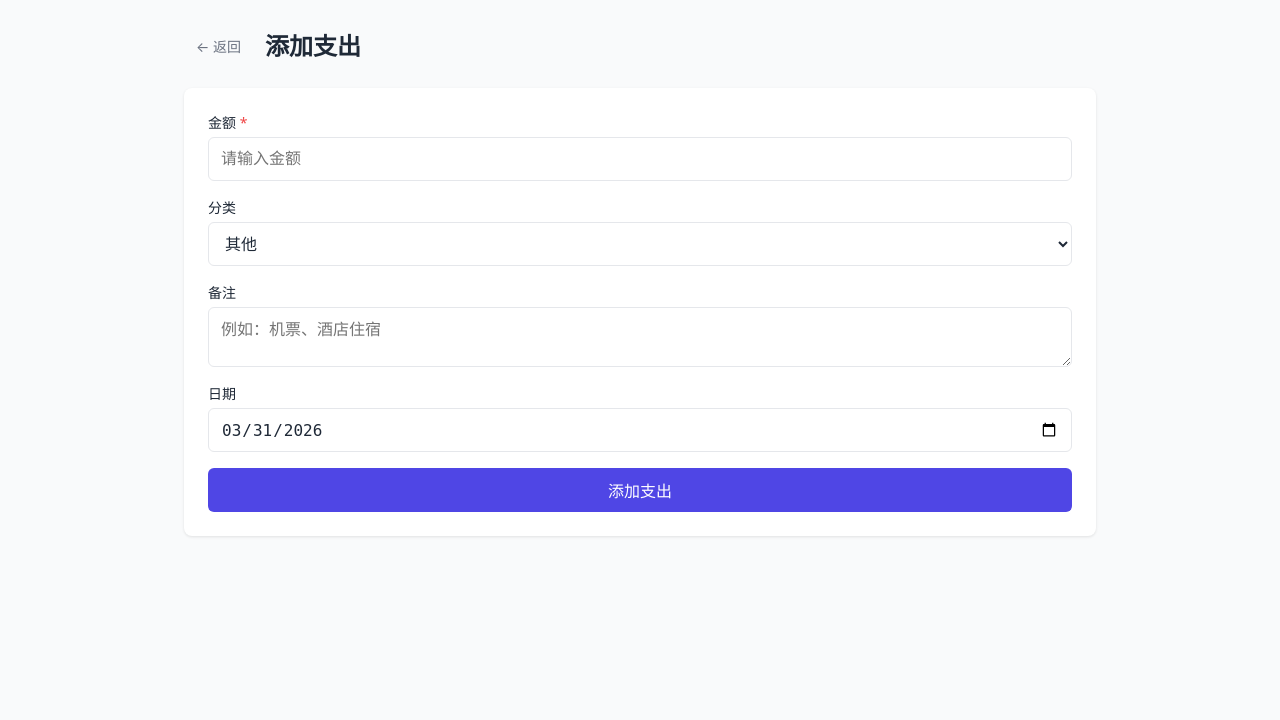
AddExpensePage › 超支预警取消后不提交
# 填写金额并提交触发预警
Type "200" into the number field labelled "金额".
click(640, 159); type("200")  # box [208,137,1072,181]
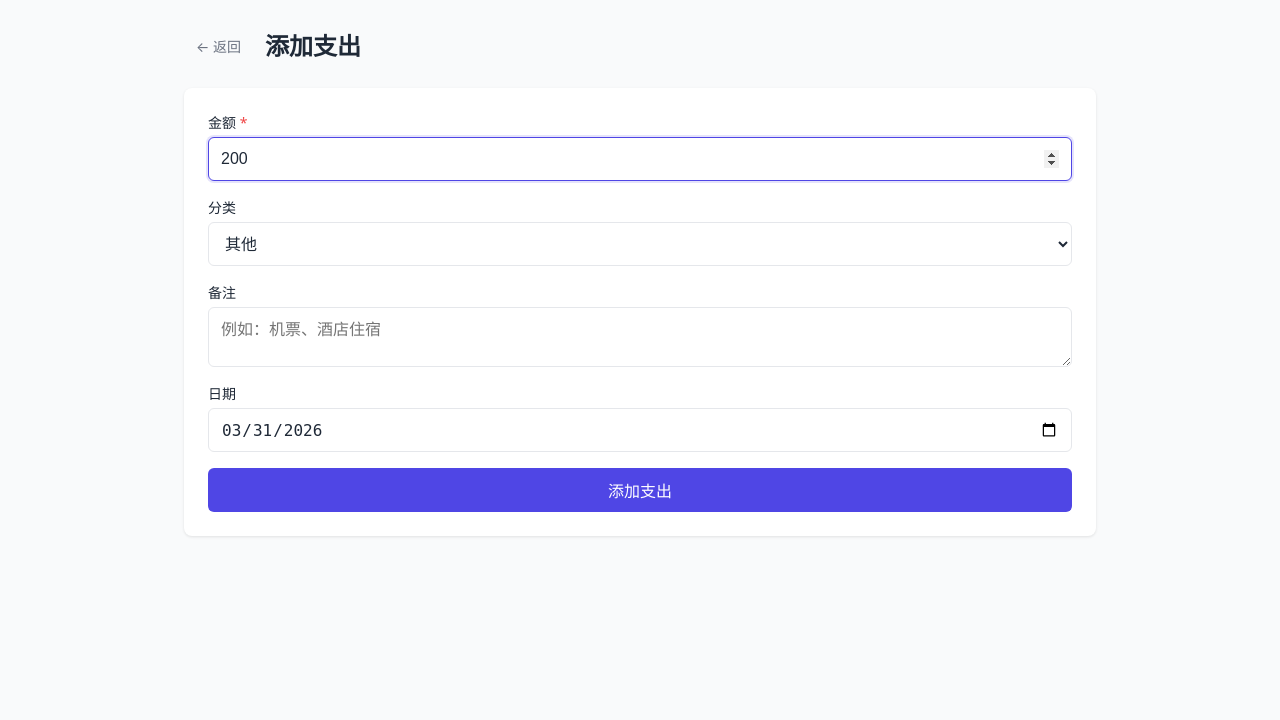
Click the button "添加支出".
click(640, 490)  # box [208,468,1072,512]
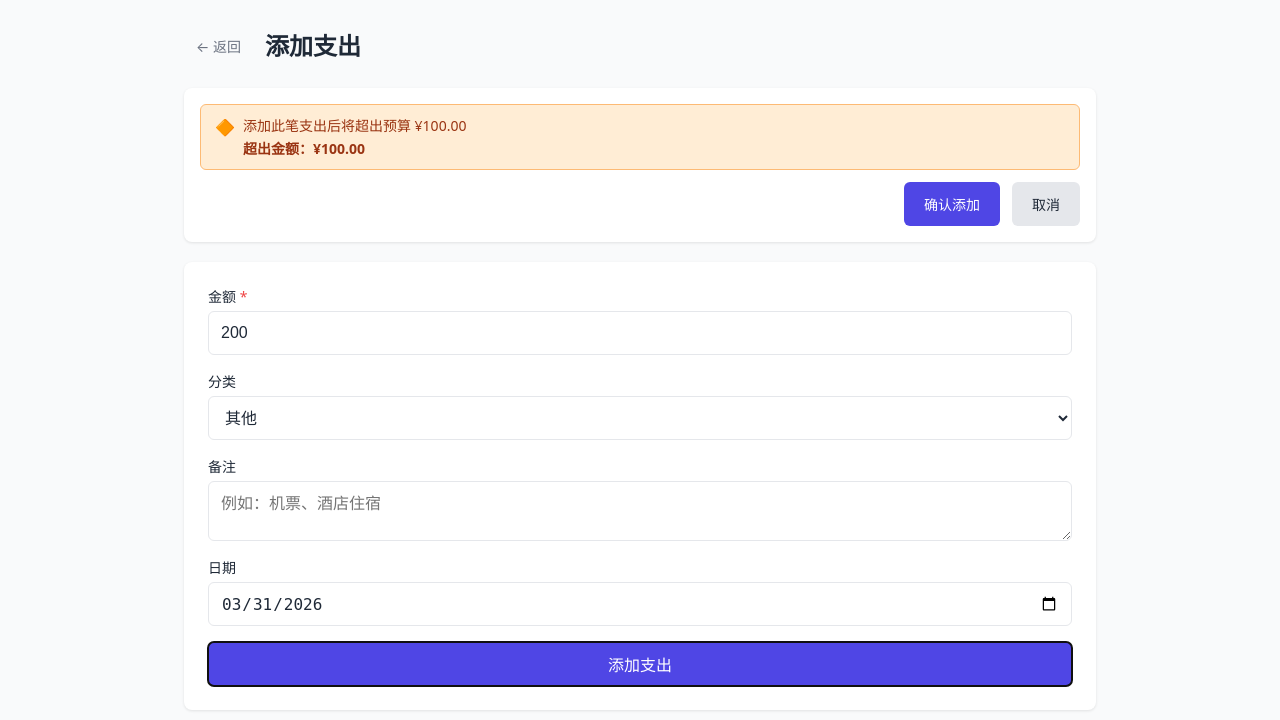
Click the button "取消".
click(1046, 204)  # box [1012,182,1080,226]
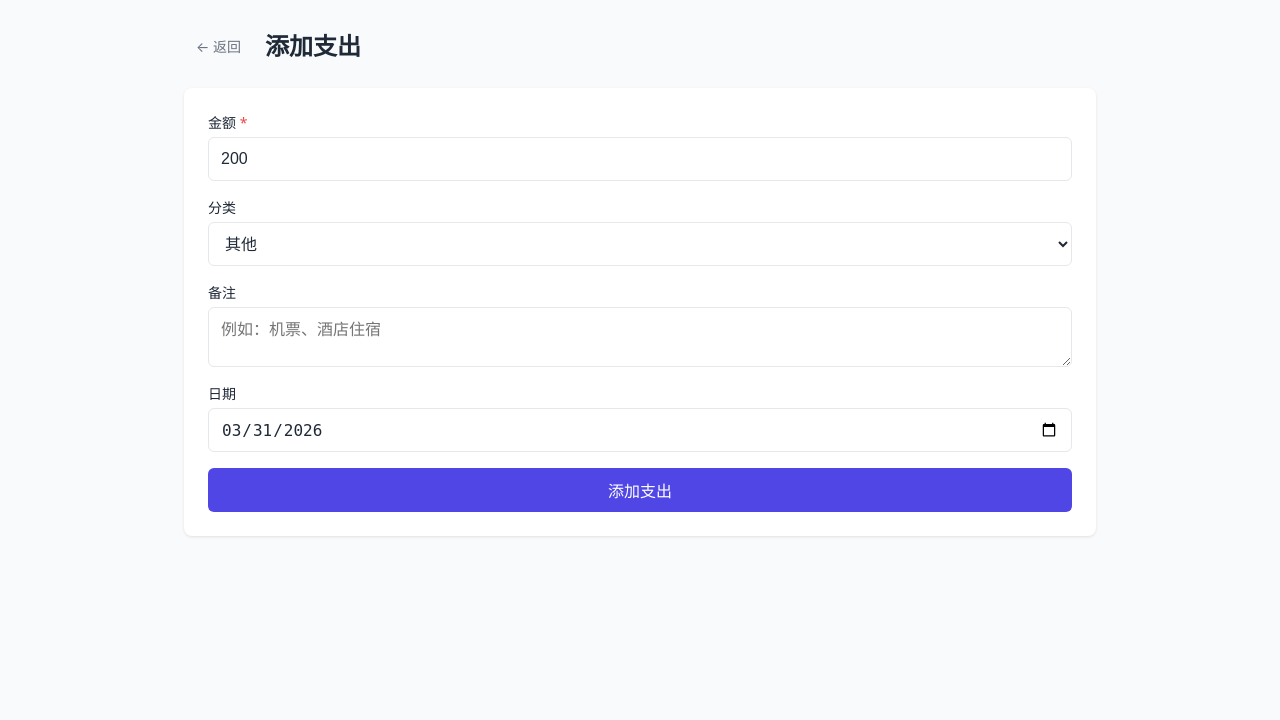
Check: the message "🔶 添加此笔支出后将超出预算 ¥100.00 超出金额：¥100.00" is gone
